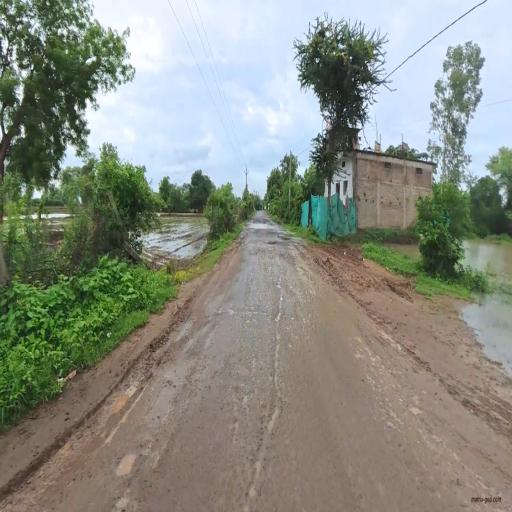longitudinal_crack: (224, 252, 305, 507)
